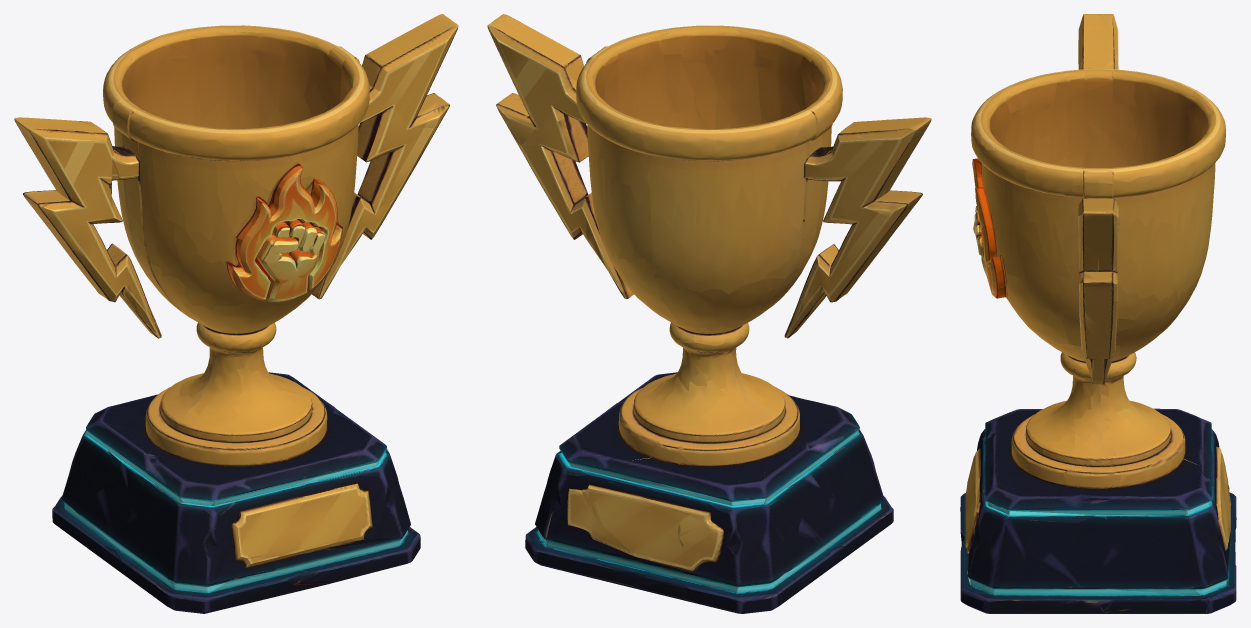
Rendered from trophy.glb.
The picture shows the model from 3 angles, left to right: view 1: azimuth 30°, elevation 25°; view 2: azimuth 150°, elevation 25°; view 3: azimuth 270°, elevation 25°; orthographic projection. The views are drawn at different scales.
Size of the model in its own units: 1.83 by 1.9 by 1.07.
Materials: 1 (1 with a texture image).
